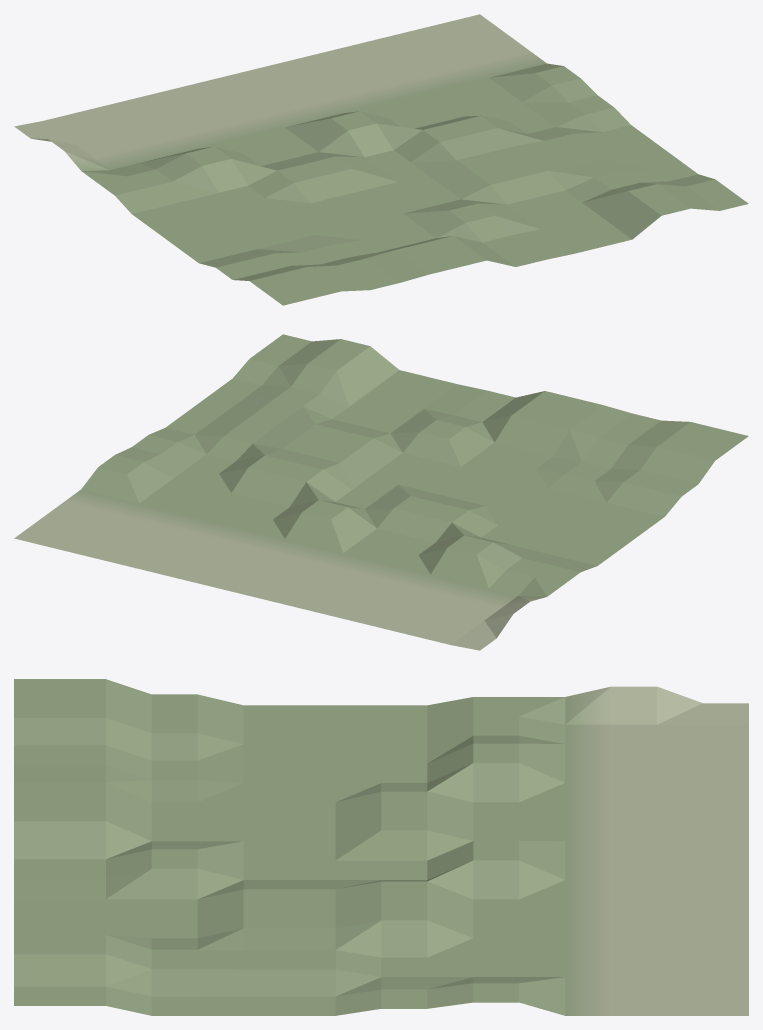
The picture shows the model from 3 angles, top to bottom: view 1: azimuth 30°, elevation 25°; view 2: azimuth 150°, elevation 25°; view 3: azimuth 270°, elevation 25°; orthographic projection. The views are drawn at different scales.
Bounding box in the file's own units: 32 × 1.26 × 32.
